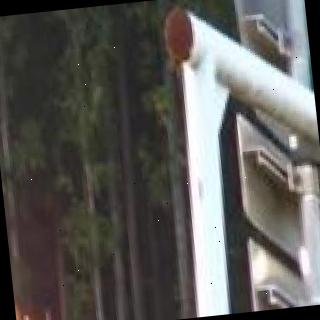fire: (0, 129, 36, 320)
